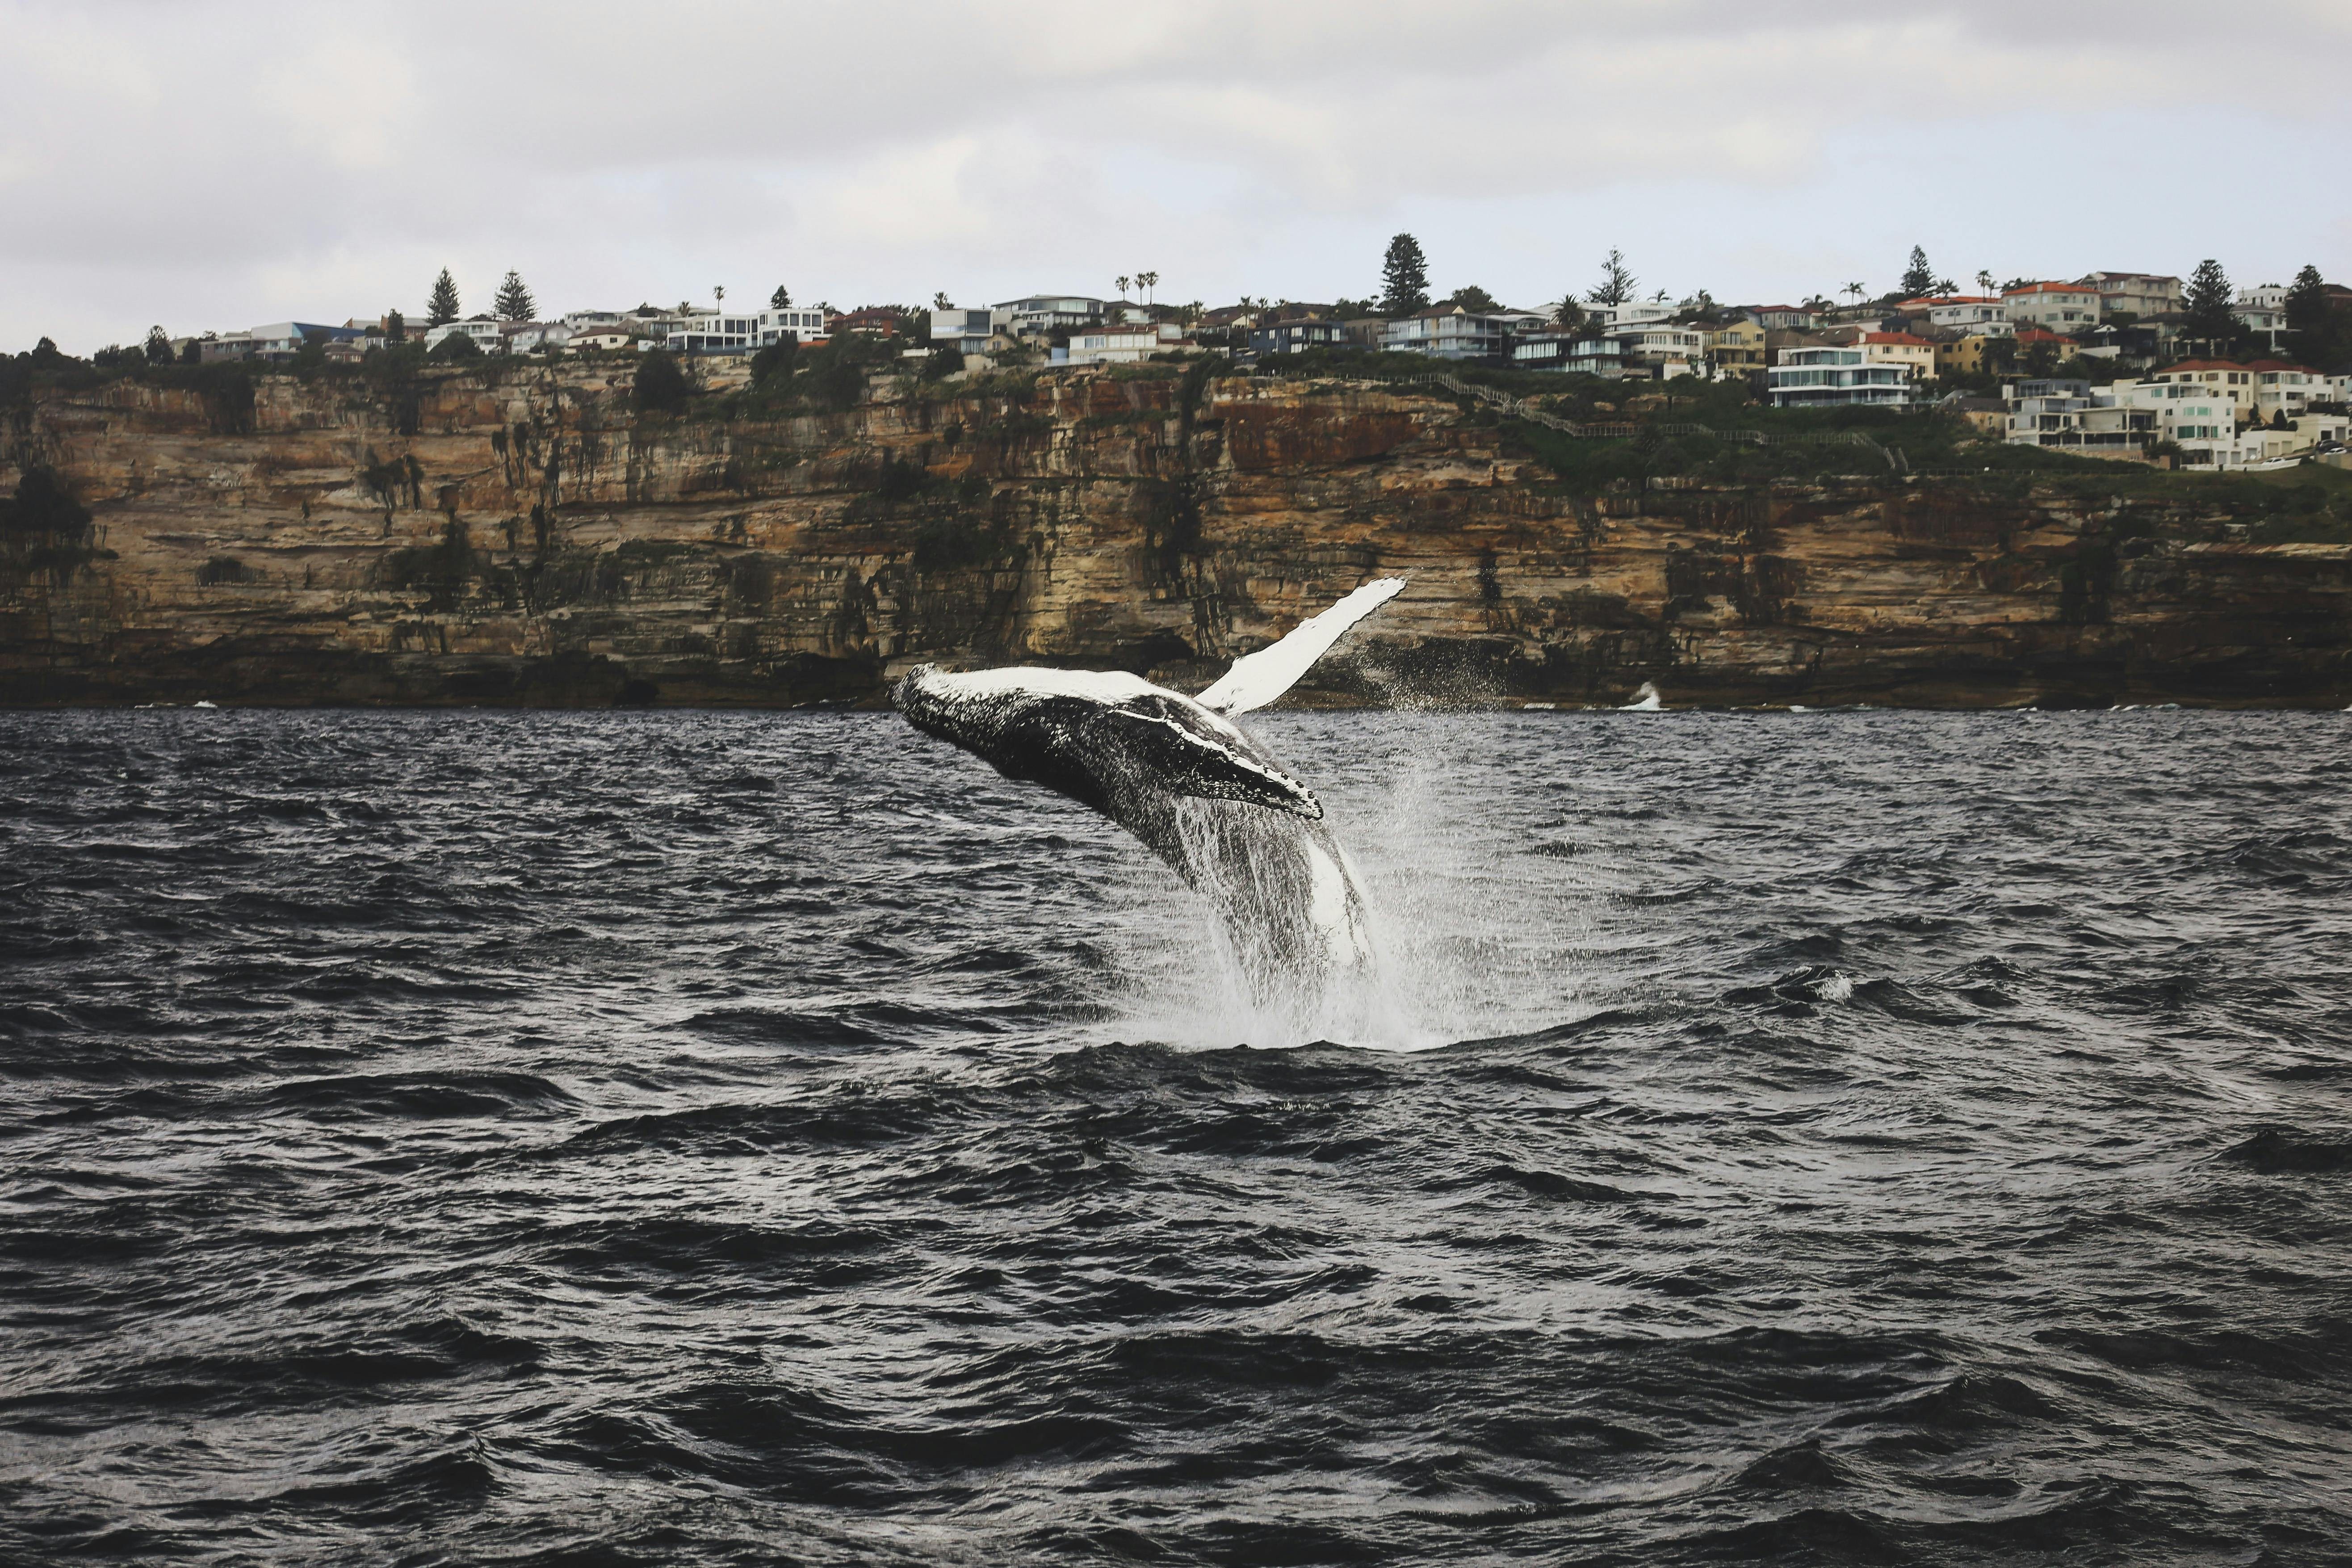whale: (894, 569, 1414, 1048)
